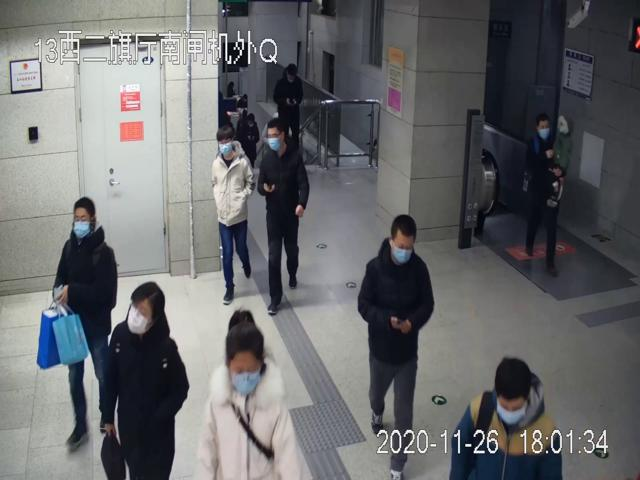person: (357, 215, 434, 480), (98, 282, 190, 480), (53, 196, 118, 447), (257, 119, 311, 313), (211, 123, 254, 303), (272, 64, 303, 154)
